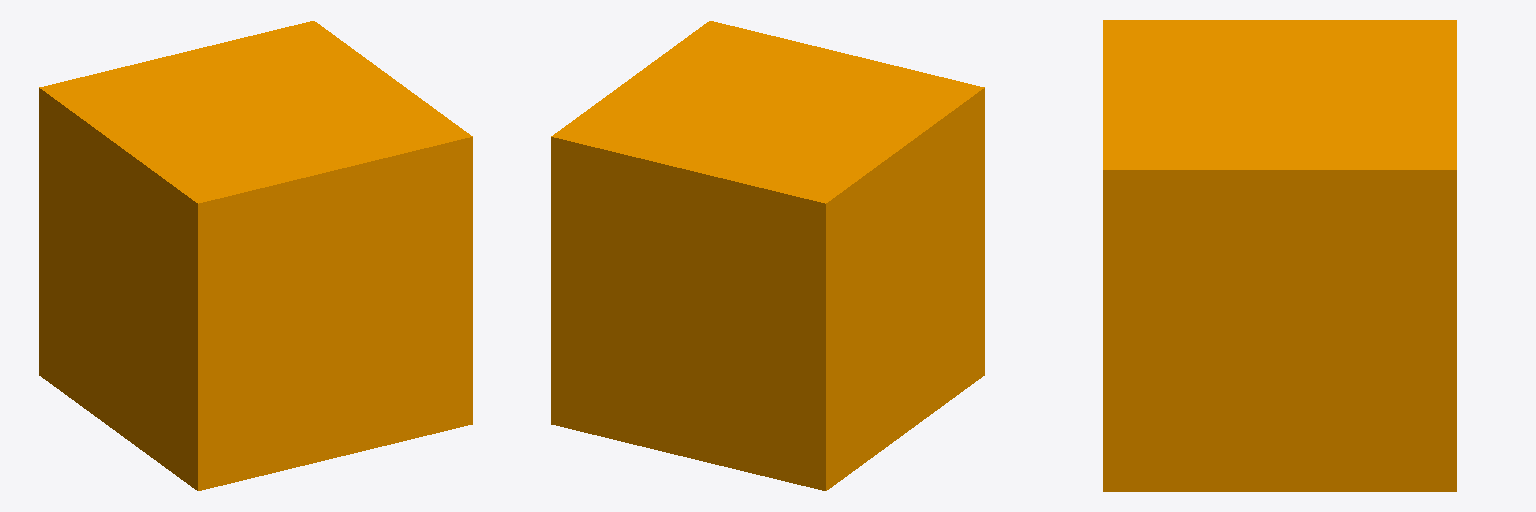
URDF robot description (ball):
<?xml version="1.0" ?>
<robot name="ball">
    <material name="light_gold">
        <color rgba="0.9333333333333333 0.8627450980392157 0.5098039215686274 1"/>
    </material>
    <material name="gray">
        <color rgba="0.7450980392156863 0.7450980392156863 0.7450980392156863 1"/>
    </material>
    <material name="red">
        <color rgba="1 0 0 1"/>
    </material>
    <material name="orange">
        <color rgba="1 0.647058823 0 1"/>
    </material>
     <material name="yellow">
        <color rgba="1 1 0 1"/>
    </material>
    <material name="green">
        <color rgba="0 0.9803921 0.603921   1"/>
    </material>

    <material name="blue">
        <color rgba="0.52941176 0.807843 1   1"/>
    </material>
    <material name="Purple">
        <color rgba="0.698 0.2274509 0.933333   1"/>
    </material>


  <link name="ballLink">
    <contact>
      <lateral_friction value="1"/>
    </contact>
    <inertial>
      <origin rpy="0 0 0" xyz="0 0 0"/>
       <mass value="0.021"/>
       <inertia ixx="0.0000028" ixy="0" ixz="0" iyy="0.0000028" iyz="0" izz="0.0000028"/>
    </inertial>
    <visual>
      <origin rpy="0 0 0" xyz="0 0 0"/>
      <geometry>
			<box size= "0.03 0.03 0.03"  />
      </geometry>
        <material name="orange"/>
    </visual>
    <collision>
    <origin rpy="0 0 0" xyz="0 0 0. "/>
      <geometry>
            <box size="0.03 0.03 0.03"/>
      </geometry>
    </collision>
  </link>
</robot>

--- What the picture shows (computed from the rendered views, not written in the file) ---
The picture shows the robot from 3 angles, left to right: view 1: azimuth 30°, elevation 25°; view 2: azimuth 150°, elevation 25°; view 3: azimuth 270°, elevation 25°; orthographic projection.
Robot: ball — 1 links, 0 joints (none); root link ballLink; default pose: all joints at 0.
Links seen in each view (by area): view 1: ballLink; view 2: ballLink; view 3: ballLink.
Link boxes in pixels (box(x1,y1,x2,y2)): ballLink: box(39, 21, 472, 490); ballLink: box(551, 21, 984, 490); ballLink: box(1103, 20, 1456, 491).
Size in the robot's own frame: 0.03 by 0.03 by 0.03 metres.
Geometry: primitives only (box / cylinder / sphere), no mesh files.